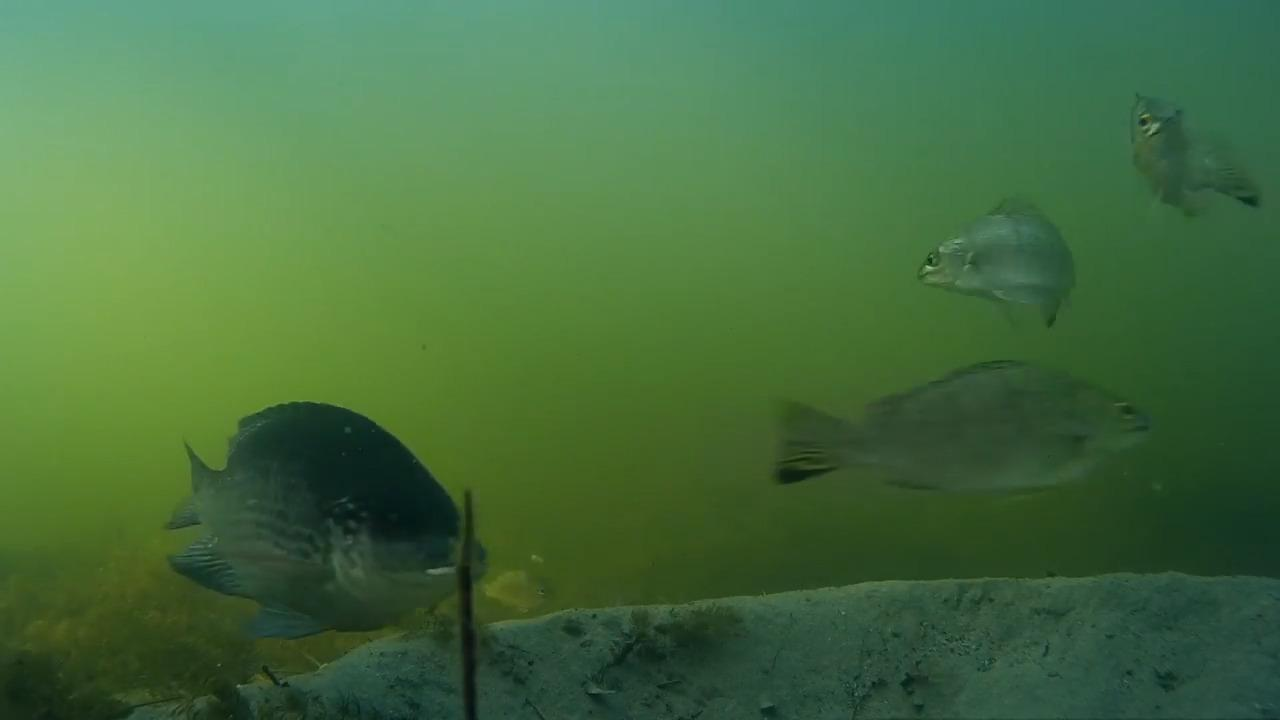Tilapia: (129, 380, 496, 652), (756, 348, 1157, 536), (905, 176, 1076, 328), (1121, 76, 1280, 230)
